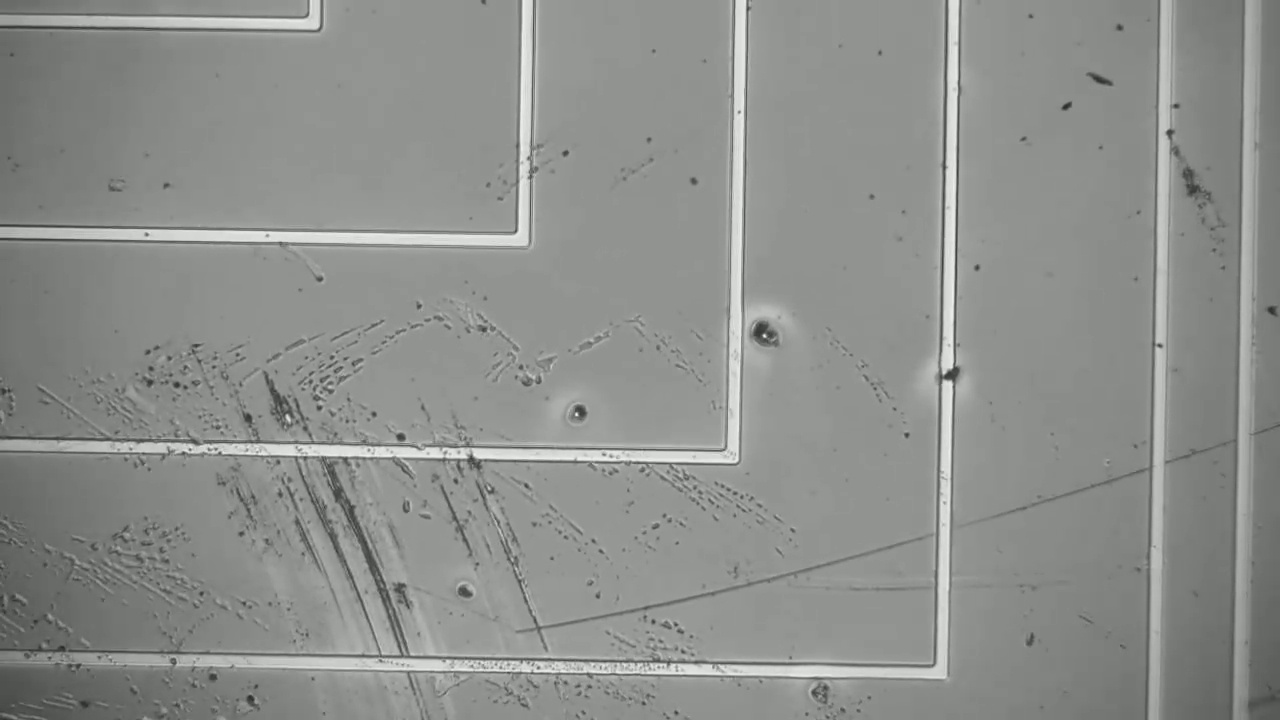scratch: (525, 419, 1279, 633), (282, 405, 427, 707), (464, 447, 543, 648)
stains_enbedded: (924, 354, 970, 405)
